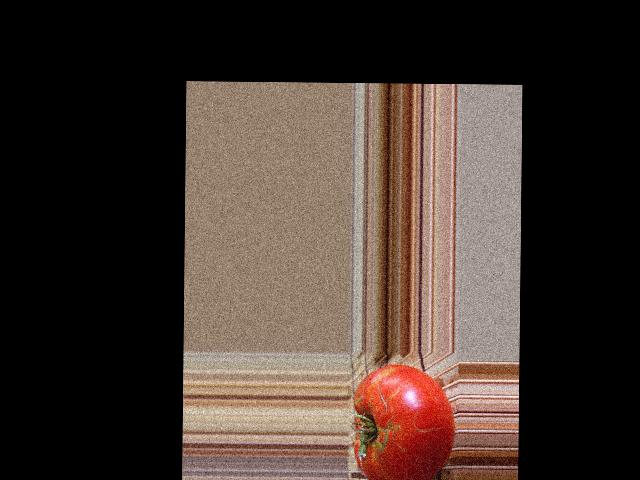tomato: (352, 364, 454, 480)
